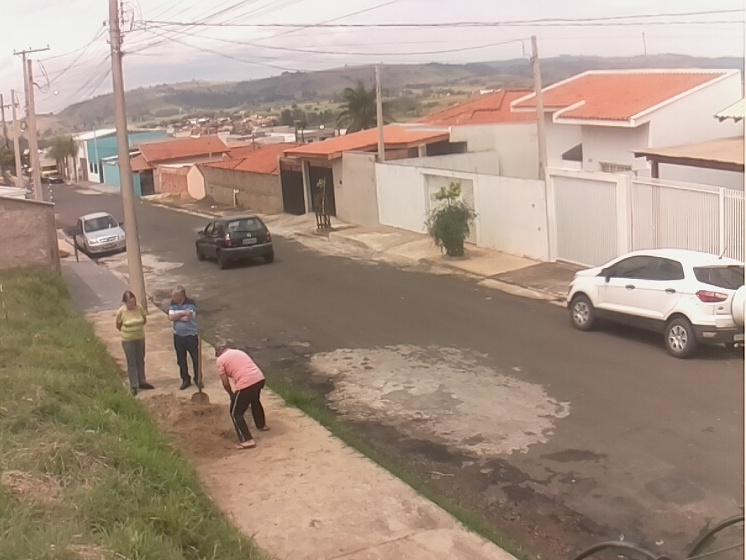person: (213, 340, 270, 448), (114, 290, 157, 397), (166, 286, 208, 392)
